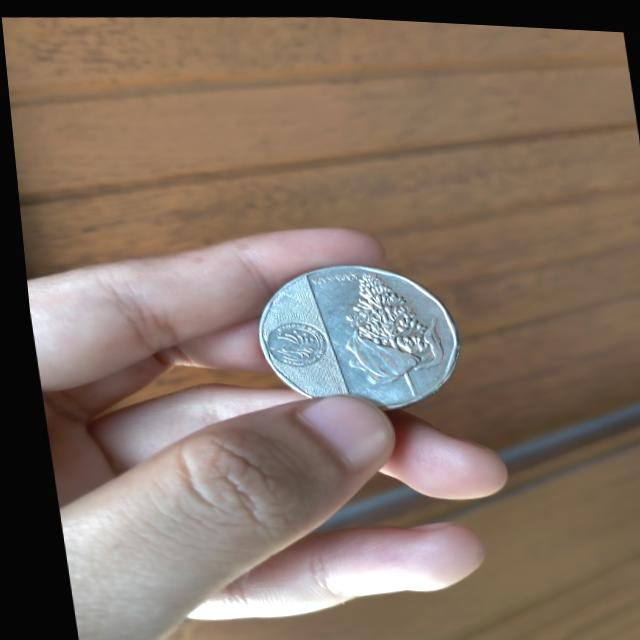10_New_Back: (319, 252, 453, 405)
